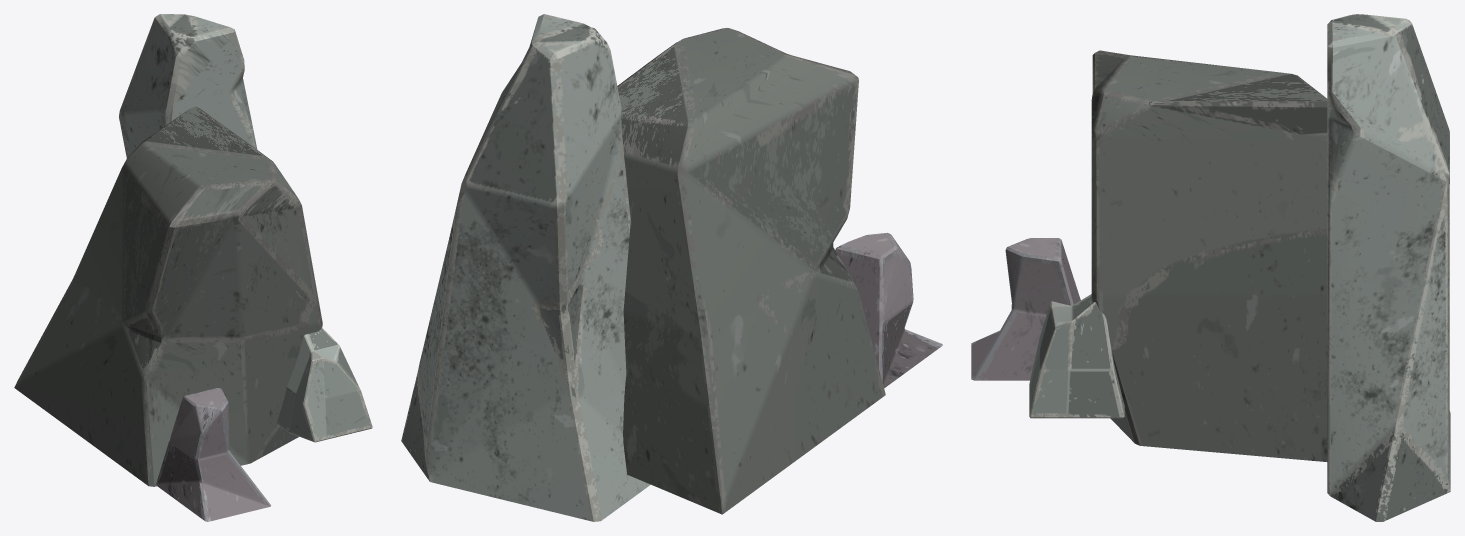
Rendered from Stones_Max_1.fbx.
3 renders of one model, left to right at view 1: azimuth 30°, elevation 25°; view 2: azimuth 150°, elevation 25°; view 3: azimuth 270°, elevation 25°, orthographic. The views are drawn at different scales.
Visible parts, largest first — view 1: polySurface12; view 2: polySurface12; view 3: polySurface12.
Part boxes in pixels (<box>): polySurface12: <box>14,14,372,521</box>; polySurface12: <box>401,14,942,521</box>; polySurface12: <box>971,14,1450,521</box>.
Size of the model in its own units: 507 by 626 by 640.
